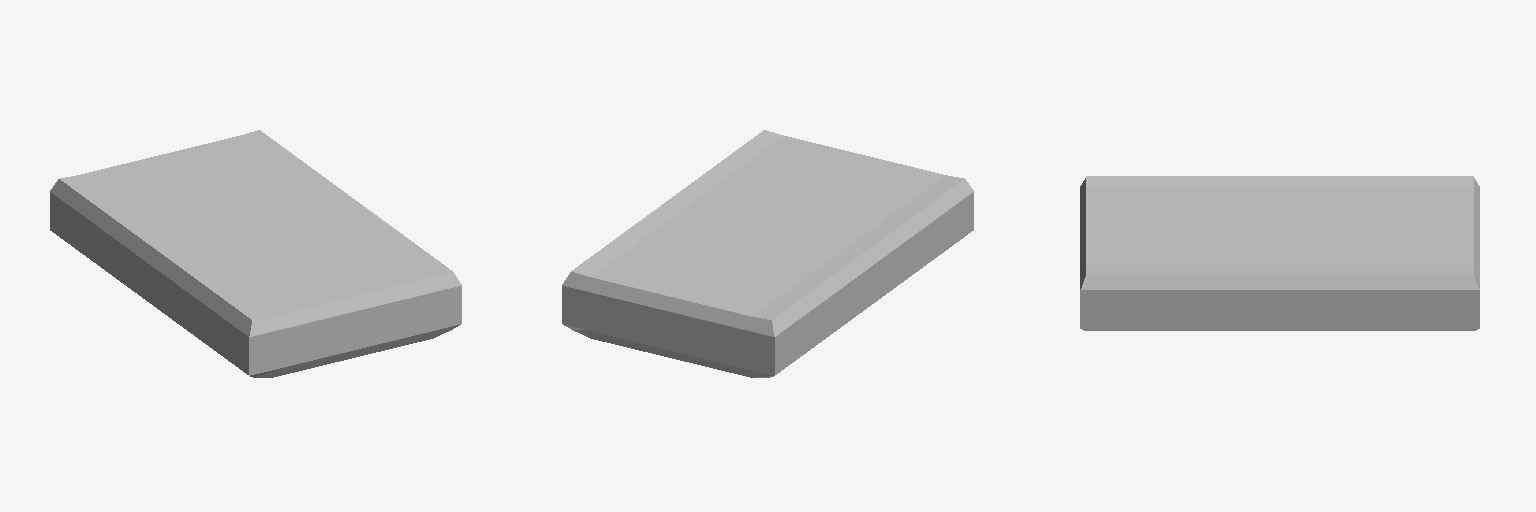
File: sofa_cushion.obj
The picture shows the model from 3 angles: view 1: azimuth 30°, elevation 25°; view 2: azimuth 150°, elevation 25°; view 3: azimuth 270°, elevation 25°; orthographic projection.
Parts seen in each view (by area): view 1: sofa_cushion:pCube3; view 2: sofa_cushion:pCube3; view 3: sofa_cushion:pCube3.
Boxes of the visible parts, x1=… form: sofa_cushion:pCube3: x1=50, y1=130, x2=461, y2=377; sofa_cushion:pCube3: x1=562, y1=130, x2=973, y2=377; sofa_cushion:pCube3: x1=1080, y1=176, x2=1479, y2=330.
Size of the model in its own units: 1.32 by 0.3655 by 2.14.